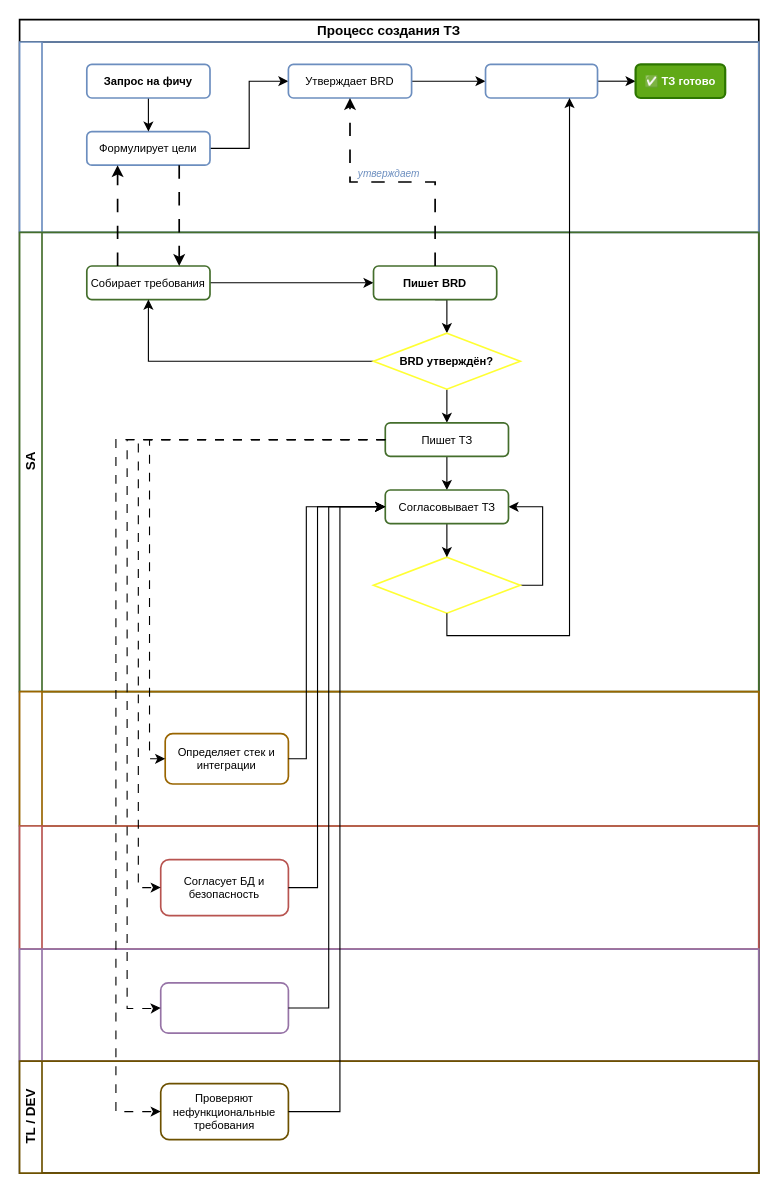
Image size: 780x1194. Some labels were removed from this diagram. The shapes that lost their labels are listed below. From the top down, each one's box as (x1, y1, x2, y2) in pixels, then its label:
(484, 63, 598, 98): Утверждает ТЗ
(18, 41, 759, 233): PO
(372, 556, 521, 614): ТЗ прошёл ревью?
(18, 690, 759, 826): ARCH
(18, 825, 759, 950): DATA & SEC
(159, 981, 289, 1034): Рисуют экраны и прототипы
(18, 948, 759, 1062): UI / UX
